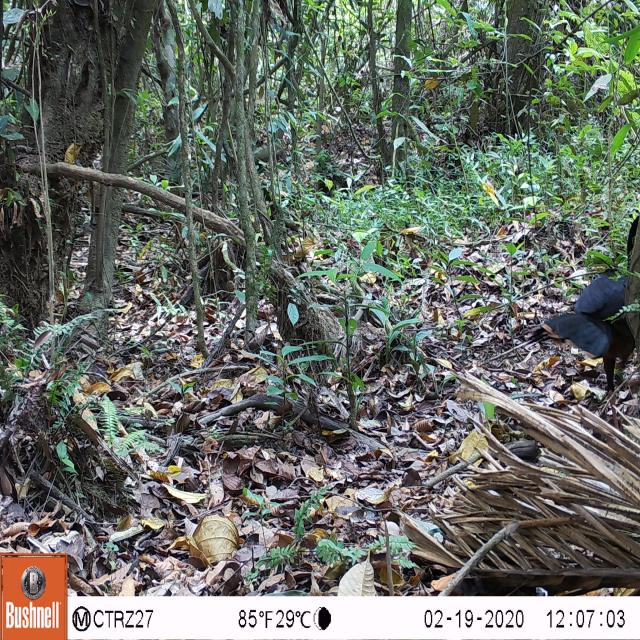Salvins Curassow: (522, 203, 640, 422)
